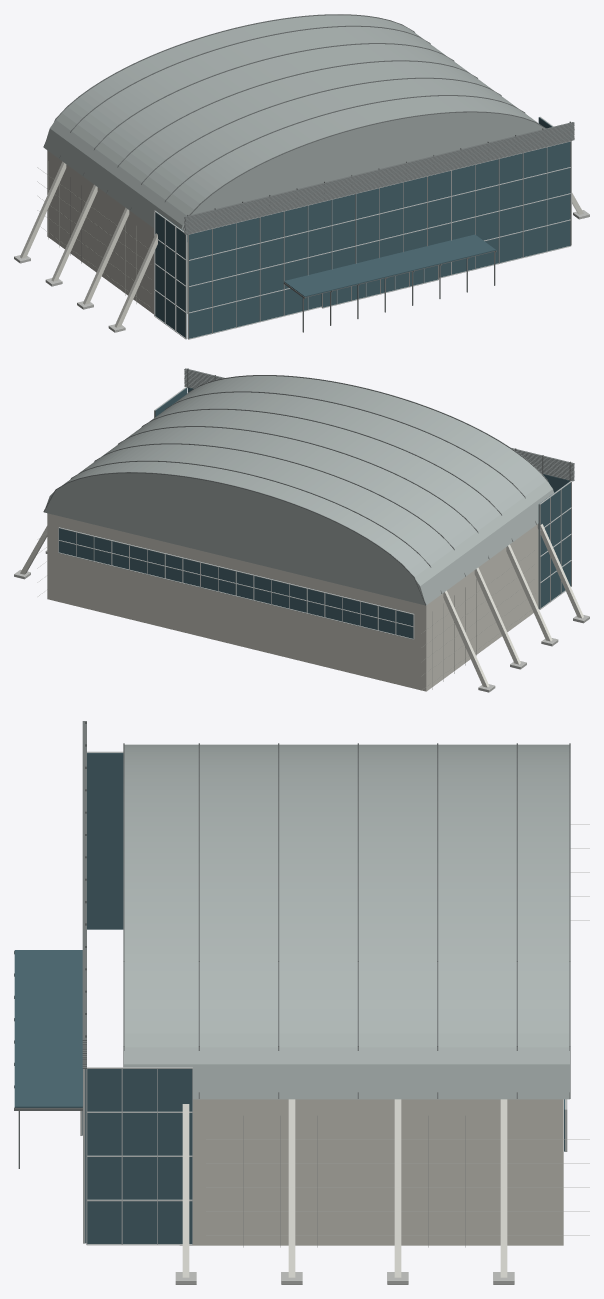
3 renders of one model, top to bottom at view 1: azimuth 30°, elevation 25°; view 2: azimuth 150°, elevation 25°; view 3: azimuth 270°, elevation 25°, orthographic. The views are drawn at different scales.
Visible parts, largest first — view 1: barrel-vault-estimated__rooflight, front-glazing__blue, arena-base-estimated__light, front-upper-louvers__metal, front-glazing__frame, vault-ribs-estimated__metal, front-canopy__blue, side-lobby-glass-estimated__blue, sloping-external-frames-estimated__white, entry-doors__blue, side-lobby-glass-estimated__frame, side-panel-courses-estimated__joint (+2 smaller); view 2: barrel-vault-estimated__rooflight, arena-base-estimated__light, rear-strip-estimated__blue, vault-ribs-estimated__metal, side-lobby-glass-estimated__blue, sloping-external-frames-estimated__white, rear-strip-estimated__frame, front-upper-louvers__metal, side-lobby-glass-estimated__frame, side-panel-courses-estimated__joint, strut-footings-estimated__concrete; view 3: barrel-vault-estimated__rooflight, arena-base-estimated__light, side-lobby-glass-estimated__blue, front-canopy__blue, sloping-external-frames-estimated__white, vault-ribs-estimated__metal, side-panel-courses-estimated__joint, side-lobby-glass-estimated__frame, front-upper-louvers__metal, strut-footings-estimated__concrete.
Part boxes in pixels (x1,y1,x2,y2): barrel-vault-estimated__rooflight: [44, 15, 544, 242]; front-glazing__blue: [189, 142, 570, 338]; arena-base-estimated__light: [47, 150, 187, 314]; front-upper-louvers__metal: [184, 122, 574, 234]; front-glazing__frame: [188, 141, 571, 339]; vault-ribs-estimated__metal: [43, 14, 545, 230]; front-canopy__blue: [284, 234, 495, 296]; side-lobby-glass-estimated__blue: [155, 117, 552, 338]; sloping-external-frames-estimated__white: [20, 161, 583, 327]; entry-doors__blue: [321, 265, 437, 307]; side-lobby-glass-estimated__frame: [154, 116, 571, 339]; side-panel-courses-estimated__joint: [37, 161, 150, 307]; barrel-vault-estimated__rooflight: [44, 376, 553, 605]; arena-base-estimated__light: [47, 513, 538, 691]; rear-strip-estimated__blue: [59, 528, 413, 638]; vault-ribs-estimated__metal: [43, 375, 548, 605]; side-lobby-glass-estimated__blue: [155, 387, 570, 608]; sloping-external-frames-estimated__white: [20, 523, 583, 687]; rear-strip-estimated__frame: [58, 527, 414, 639]; front-upper-louvers__metal: [184, 368, 574, 481]; side-lobby-glass-estimated__frame: [154, 387, 571, 609]; side-panel-courses-estimated__joint: [37, 533, 534, 690]; strut-footings-estimated__concrete: [14, 550, 589, 692]; barrel-vault-estimated__rooflight: [124, 744, 569, 1099]; arena-base-estimated__light: [180, 1099, 563, 1245]; side-lobby-glass-estimated__blue: [87, 753, 192, 1243]; front-canopy__blue: [14, 950, 82, 1107]; sloping-external-frames-estimated__white: [182, 1099, 507, 1277]; vault-ribs-estimated__metal: [123, 743, 570, 1098]; side-panel-courses-estimated__joint: [206, 824, 589, 1247]; side-lobby-glass-estimated__frame: [86, 751, 192, 1245]; front-upper-louvers__metal: [82, 721, 86, 1068]; strut-footings-estimated__concrete: [175, 1272, 514, 1284].
Bounding box in the file's own units: 69.6 × 22.52 × 43.5.
